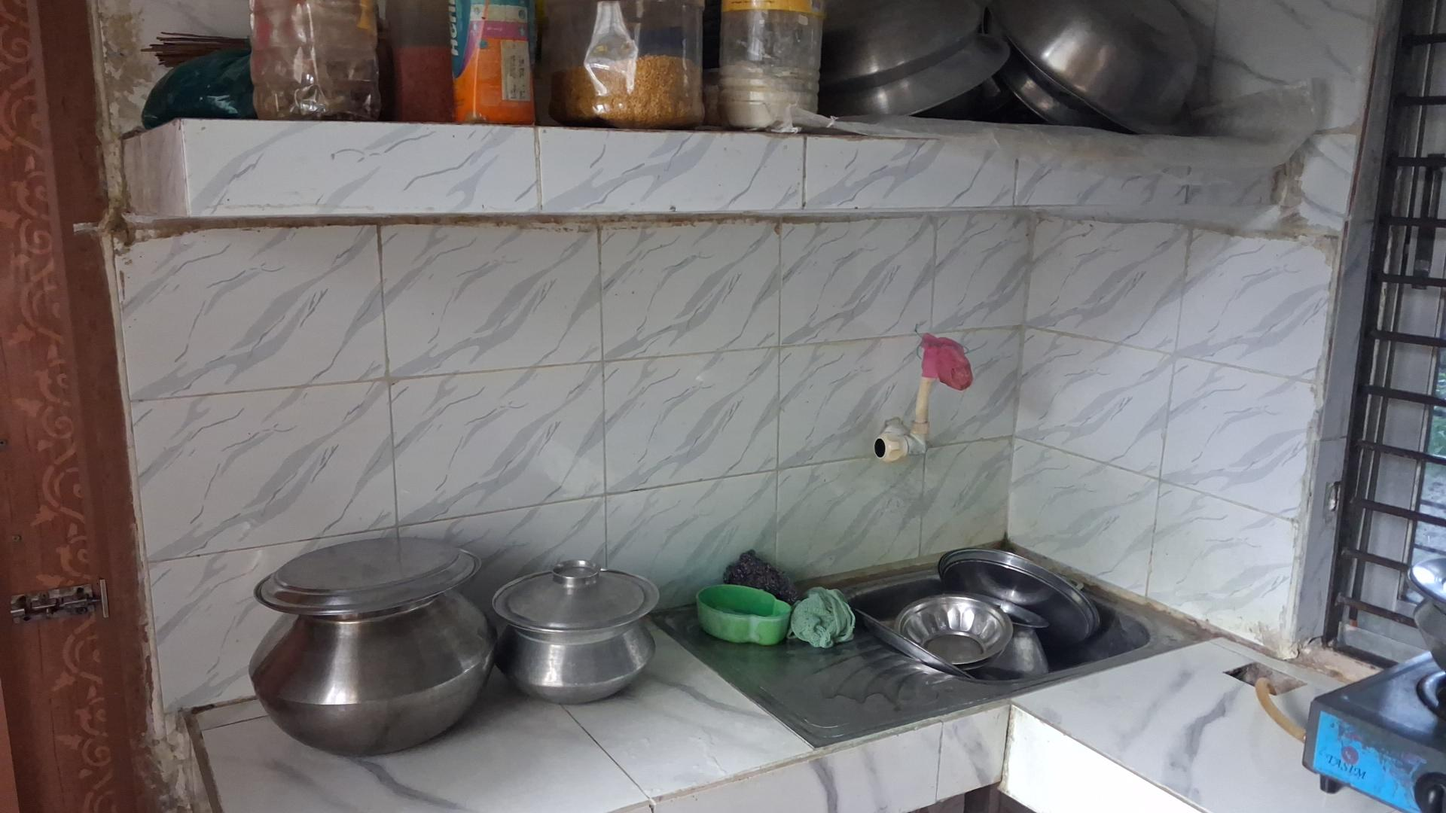Bowl: (898, 590, 1010, 674)
Jar: (553, 0, 701, 118), (249, 1, 383, 122), (713, 0, 826, 130), (447, 7, 539, 120), (695, 584, 794, 645)
Pot: (249, 534, 497, 753), (502, 561, 659, 702)
